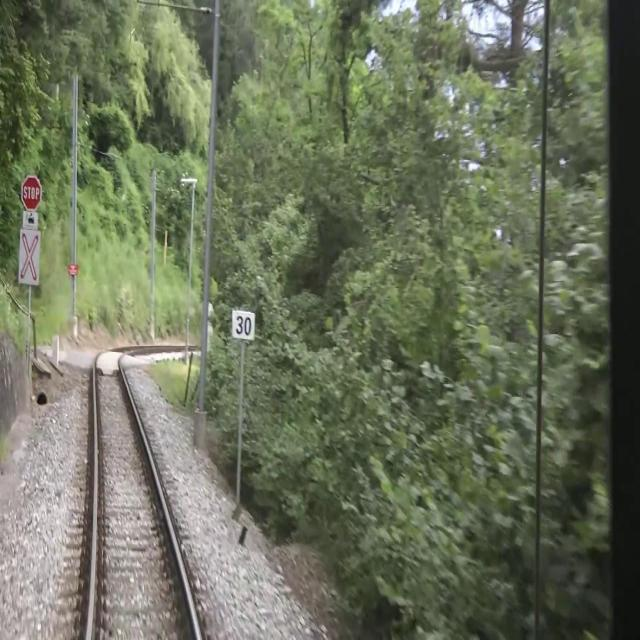rail-track: (92, 351, 196, 639)
